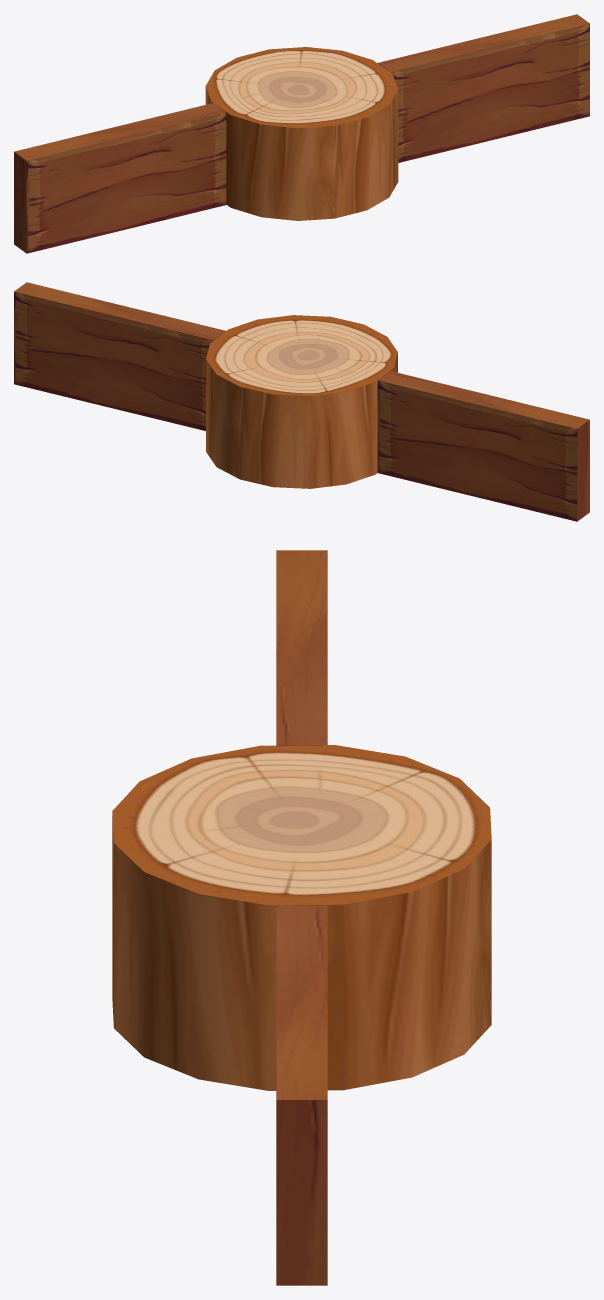
Rendered from two_blade_wood_01.fbx.
The picture shows the model from 3 angles, top to bottom: view 1: azimuth 30°, elevation 25°; view 2: azimuth 150°, elevation 25°; view 3: azimuth 270°, elevation 25°; orthographic projection. The views are drawn at different scales.
Visible parts, largest first — view 1: two_blade_wood_01; view 2: two_blade_wood_01; view 3: two_blade_wood_01.
Boxes of the visible parts, x1,y1,x2,y2 form: two_blade_wood_01: (14,14,589,253); two_blade_wood_01: (14,282,589,521); two_blade_wood_01: (112,550,491,1285).
Size of the model in its own units: 254 by 40 by 74.15.
